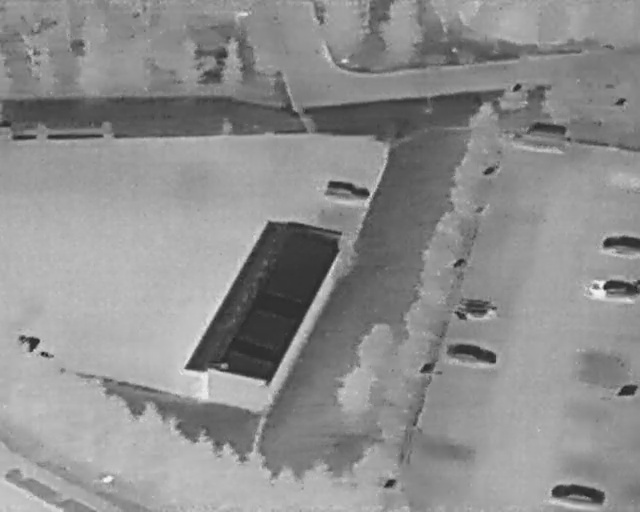Car: (513, 117, 574, 152), (444, 339, 498, 368), (549, 480, 606, 506), (587, 280, 640, 304), (323, 178, 371, 204), (452, 297, 498, 320), (601, 234, 640, 257)
